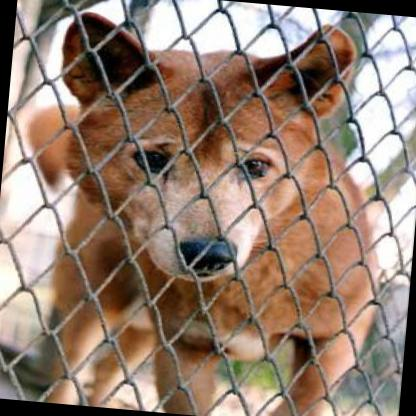dingo: (27, 0, 403, 416)
